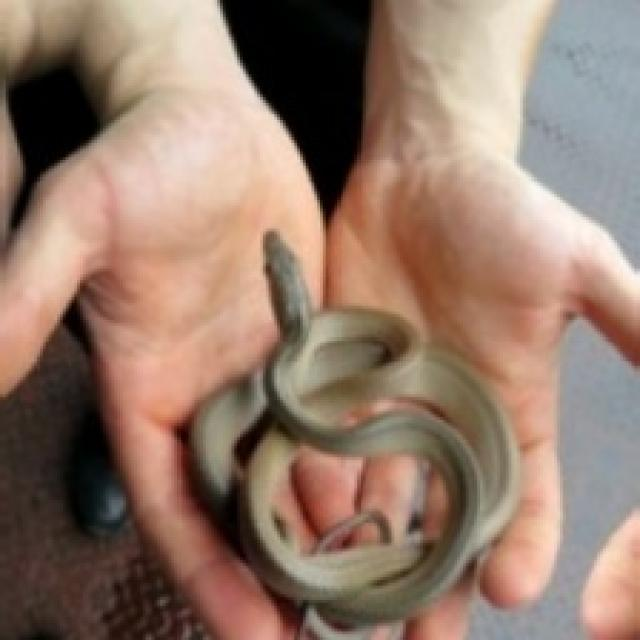red-tailed green ratsnake: (180, 231, 517, 637), (186, 231, 517, 637)
